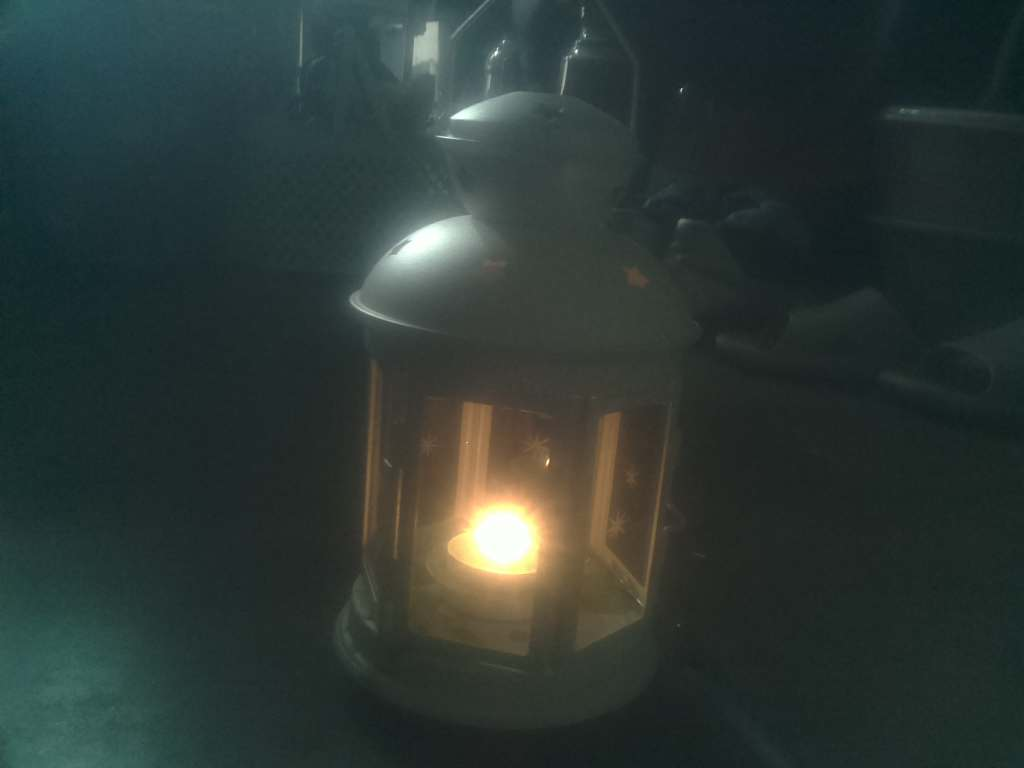fire: (443, 497, 549, 594)
